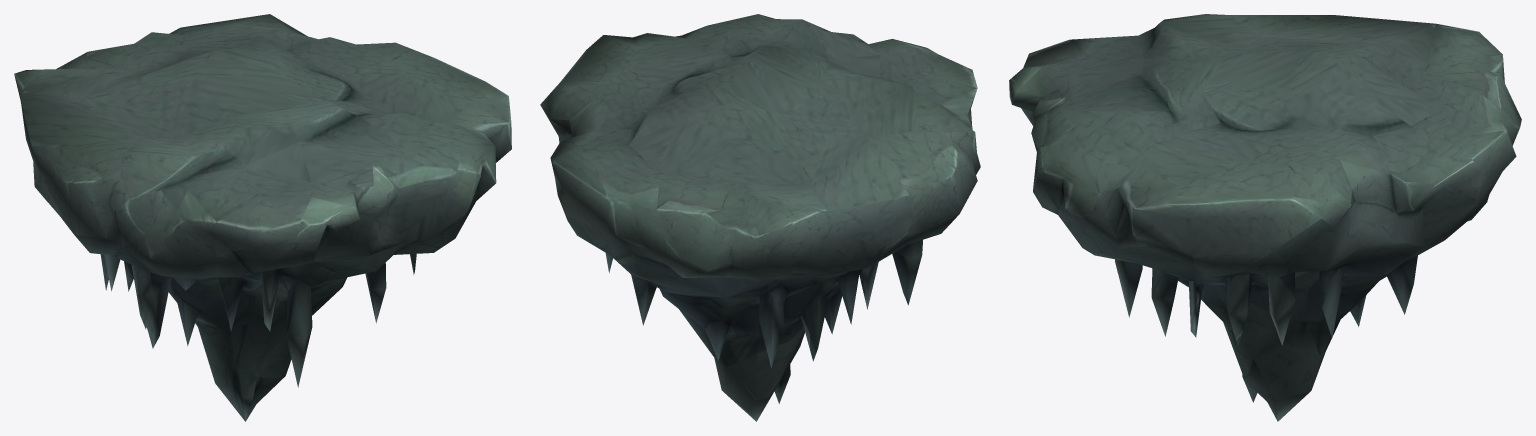
Rendered from StaticPlatform1.glb.
The picture shows the model from 3 angles, left to right: view 1: azimuth 30°, elevation 25°; view 2: azimuth 150°, elevation 25°; view 3: azimuth 270°, elevation 25°; orthographic projection. The views are drawn at different scales.
Parts seen in each view (by area): view 1: rock; view 2: rock; view 3: rock.
Part boxes in pixels (<box>): rock: <box>14,14,511,421</box>; rock: <box>540,14,980,421</box>; rock: <box>1009,14,1521,421</box>.
Size of what is drawn, in the model's own units: 1.79 by 1.48 by 1.9.
Materials: 1 (1 with a texture image).
